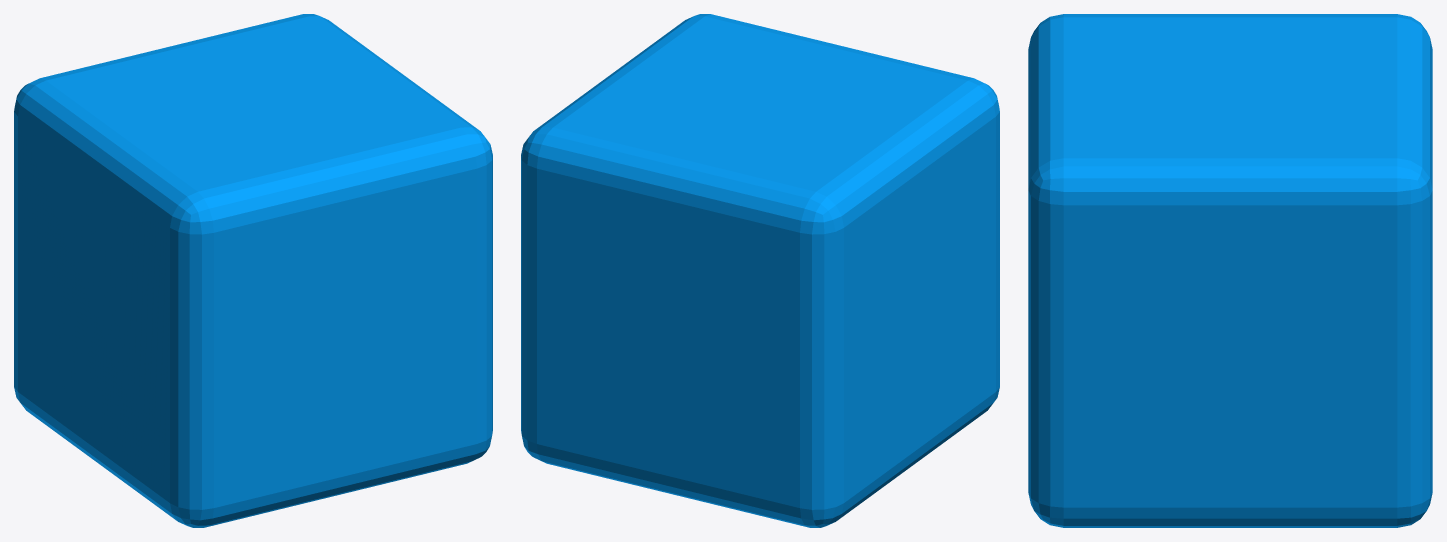
File: Cube_blue.fbx
3 views of the same model, side by side, from view 1: azimuth 30°, elevation 25°; view 2: azimuth 150°, elevation 25°; view 3: azimuth 270°, elevation 25° (orthographic). The views are drawn at different scales.
Visible parts, largest first — view 1: Cube; view 2: Cube; view 3: Cube.
Boxes of the visible parts, bbox=[...] form: Cube: bbox=[14, 14, 492, 527]; Cube: bbox=[521, 14, 999, 527]; Cube: bbox=[1028, 14, 1432, 527].
Bounding box in the file's own units: 200 × 200 × 200.
Materials: 1 (1 with a texture image).
